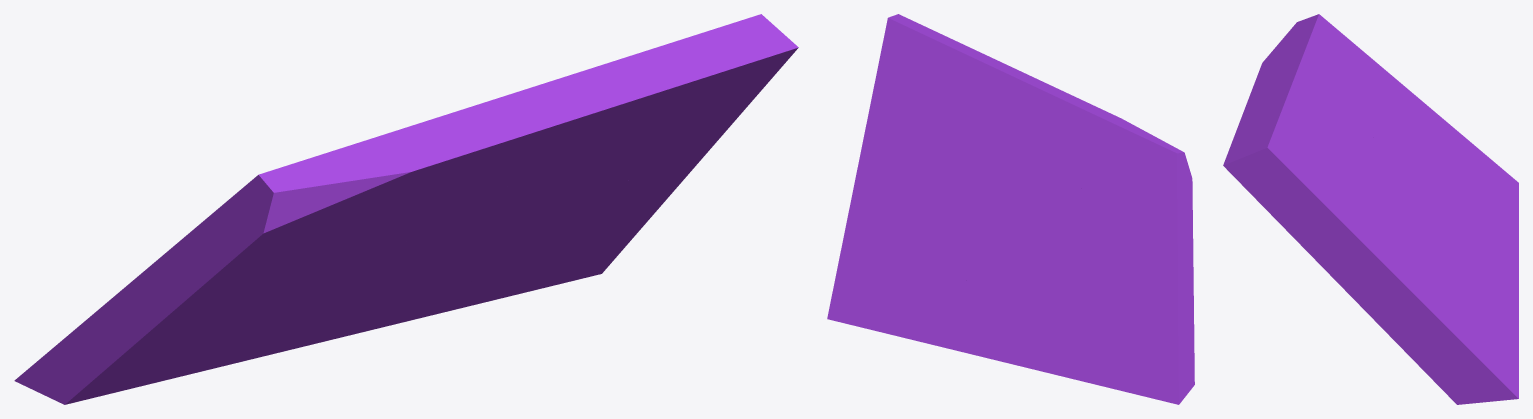
The model's file is Window_124_2_chunks.fbx.
3 views of the same model, side by side, from view 1: azimuth 30°, elevation 25°; view 2: azimuth 150°, elevation 25°; view 3: azimuth 270°, elevation 25° (orthographic). The views are drawn at different scales.
Parts seen in each view (by area): view 1: Window_124_2_0, Window_124_2_12, Window_124_2_5, Window_124_2_11, Window_124_2_8, Window_124_2_10, Window_124_2_6, Window_124_2_4, Window_124_2_2, Window_124_2_9, Window_124_2_7, Window_124_2_3; view 2: Window_124_2_7, Window_124_2_0, Window_124_2_8, Window_124_2_2, Window_124_2_4, Window_124_2_12, Window_124_2_1, Window_124_2_10, Window_124_2_9, Window_124_2_6, Window_124_2_11, Window_124_2_5; view 3: Window_124_2_8, Window_124_2_7, Window_124_2_12, Window_124_2_5, Window_124_2_2, Window_124_2_4, Window_124_2_0, Window_124_2_1, Window_124_2_10, Window_124_2_9, Window_124_2_11, Window_124_2_6.
Boxes of the visible parts, x1,y1,x2,y2 form: Window_124_2_0: (35,164,422,404); Window_124_2_12: (506,14,798,189); Window_124_2_5: (471,145,713,296); Window_124_2_11: (434,66,678,162); Window_124_2_8: (457,75,774,231); Window_124_2_10: (292,136,519,225); Window_124_2_6: (341,211,505,337); Window_124_2_4: (270,278,368,353); Window_124_2_2: (14,322,274,390); Window_124_2_9: (367,102,484,140); Window_124_2_7: (433,282,507,314); Window_124_2_3: (196,322,285,370); Window_124_2_7: (827,196,967,348); Window_124_2_0: (1085,138,1194,396); Window_124_2_8: (858,61,1018,219); Window_124_2_2: (1000,298,1185,404); Window_124_2_4: (950,191,1071,361); Window_124_2_12: (879,14,1009,174); Window_124_2_1: (1052,188,1173,325); Window_124_2_10: (1004,108,1157,193); Window_124_2_9: (1007,92,1115,167); Window_124_2_6: (966,189,1024,312); Window_124_2_11: (968,46,1103,110); Window_124_2_5: (846,165,894,222); Window_124_2_8: (1251,161,1413,269); Window_124_2_7: (1408,224,1518,402); Window_124_2_12: (1223,104,1369,194); Window_124_2_5: (1324,263,1479,404); Window_124_2_2: (1454,133,1518,291); Window_124_2_4: (1373,137,1518,322); Window_124_2_0: (1283,14,1461,134); Window_124_2_1: (1365,109,1456,193); Window_124_2_10: (1259,23,1380,163); Window_124_2_9: (1285,42,1363,155); Window_124_2_11: (1235,64,1305,133); Window_124_2_6: (1378,161,1486,285).
Bounding box in the file's own units: 947 × 497 × 484.
